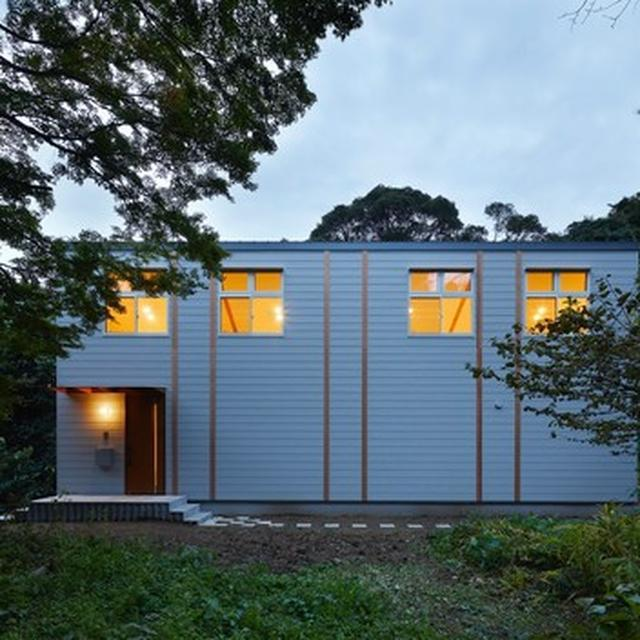building: (54, 237, 640, 509)
